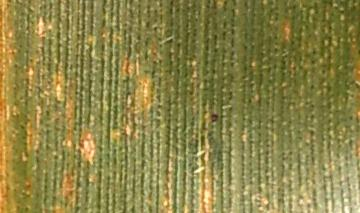tarspot: (210, 113, 219, 124)
